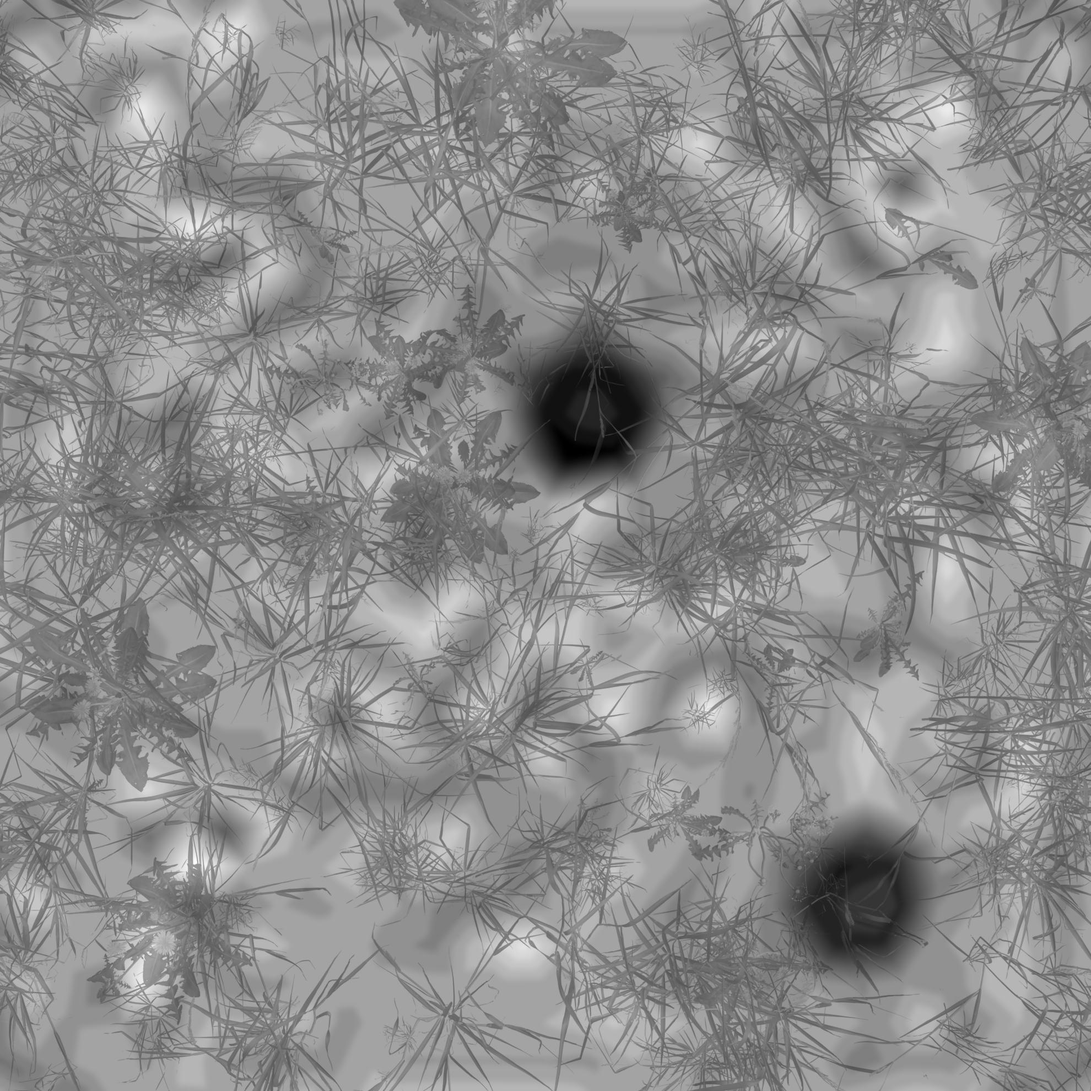landmine: (511, 333, 658, 491), (791, 825, 929, 971)
